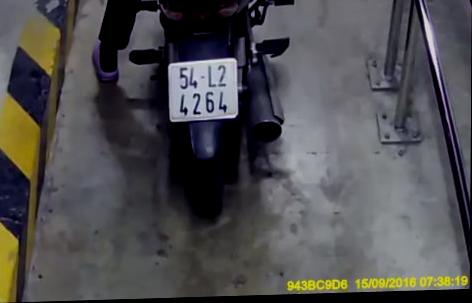License_Plate: (158, 54, 247, 127)
